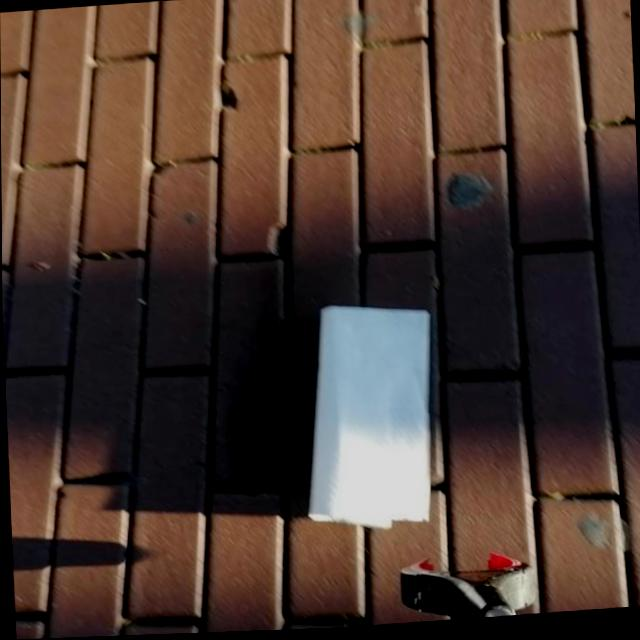Paper: (297, 298, 441, 539)
